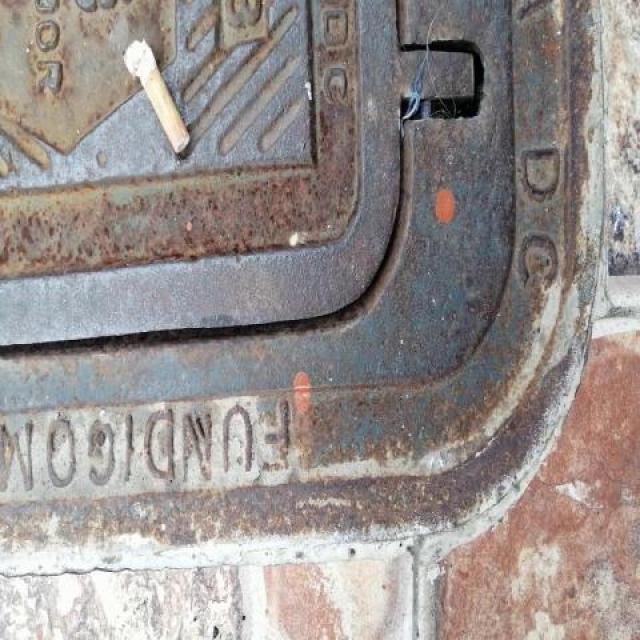non-organic waste: (118, 34, 195, 158)
